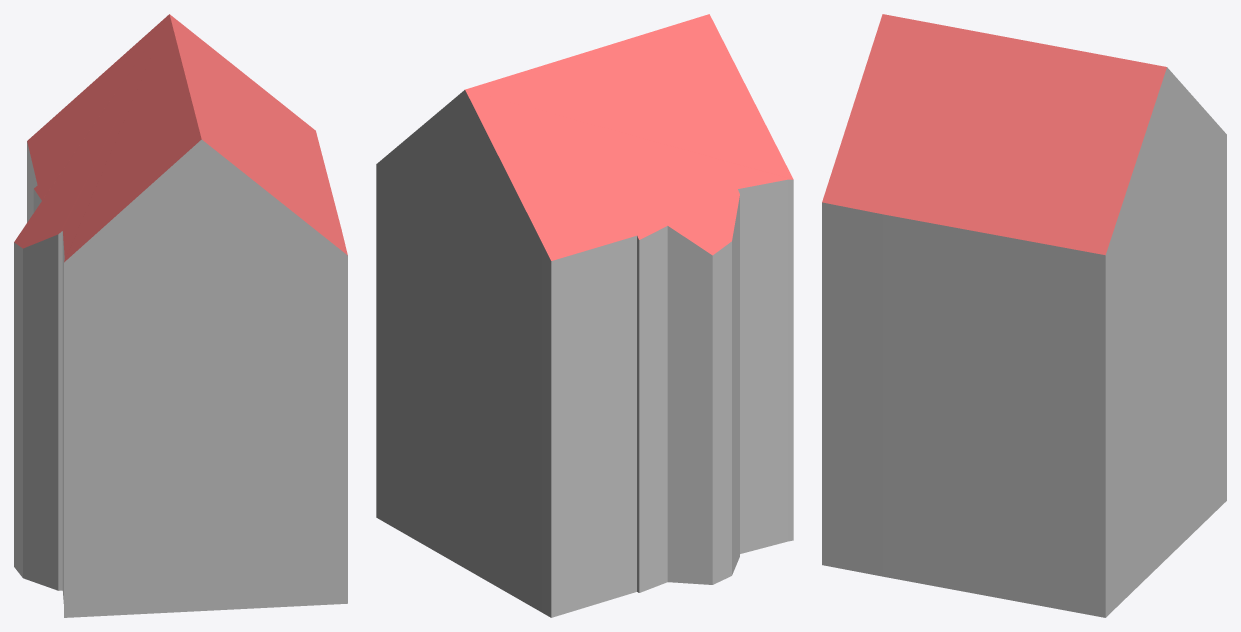
The model's file is DEBY_LOD2_4907178.gltf.
The picture shows the model from 3 angles, left to right: view 1: azimuth 30°, elevation 25°; view 2: azimuth 150°, elevation 25°; view 3: azimuth 270°, elevation 25°; orthographic projection. The views are drawn at different scales.
Visible parts, largest first — view 1: Z_UP; view 2: Z_UP; view 3: Z_UP.
Boxes of the visible parts, left/top/right/bottom form: Z_UP: left=14, top=14, right=347, bottom=617; Z_UP: left=376, top=14, right=793, bottom=617; Z_UP: left=822, top=14, right=1226, bottom=617.
Size of the model in its own units: 17.91 by 24.36 by 18.19.
